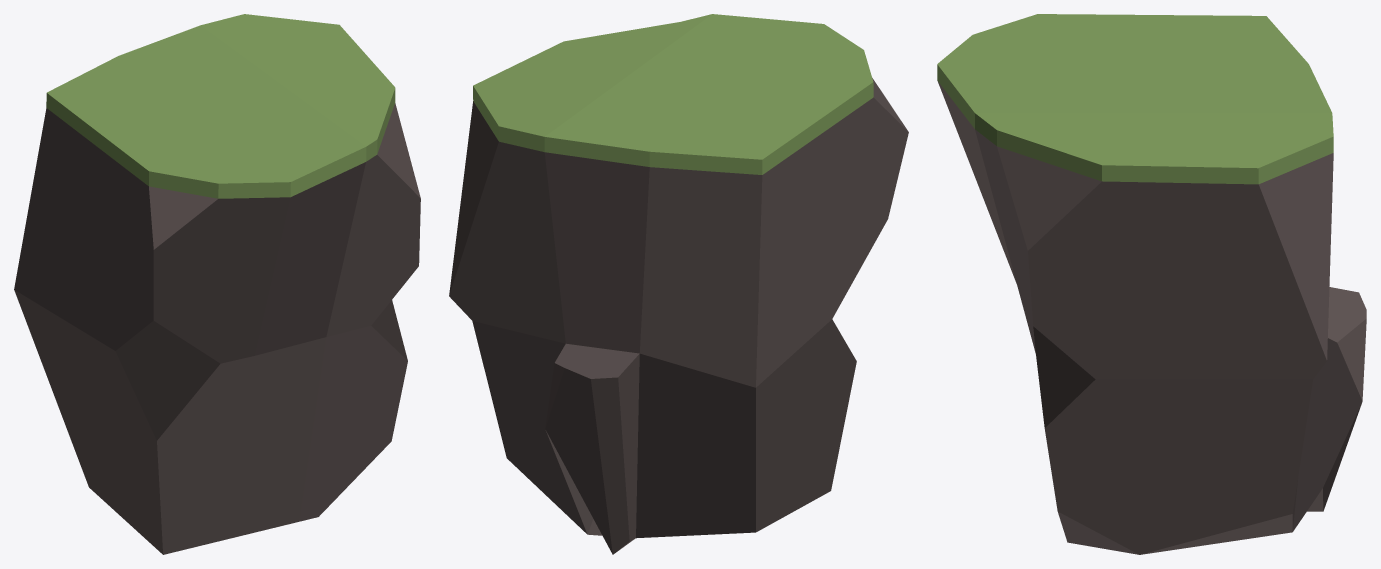
The model's file is lotusplatform2.fbx.
3 renders of one model, left to right at view 1: azimuth 30°, elevation 25°; view 2: azimuth 150°, elevation 25°; view 3: azimuth 270°, elevation 25°, orthographic. The views are drawn at different scales.
Parts seen in each view (by area): view 1: Cube.002; view 2: Cube.002; view 3: Cube.002.
Part boxes in pixels (left/top/right/bottom): Cube.002: left=14, top=14, right=420, bottom=554; Cube.002: left=449, top=14, right=908, bottom=554; Cube.002: left=937, top=14, right=1366, bottom=554.
Bounding box in the file's own units: 285 × 354 × 319.
